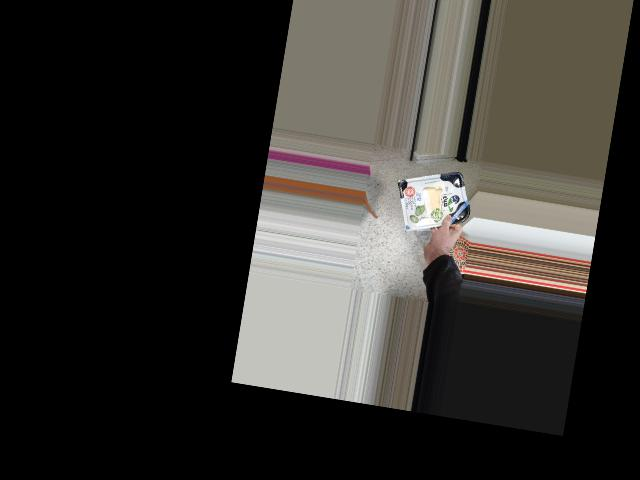cheese: (400, 173, 468, 229)
